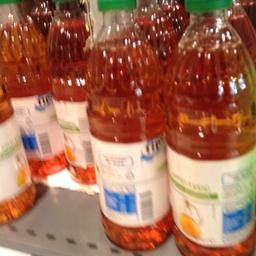vinegar: (86, 0, 170, 254), (172, 0, 252, 254), (1, 0, 65, 177), (44, 0, 102, 189)
